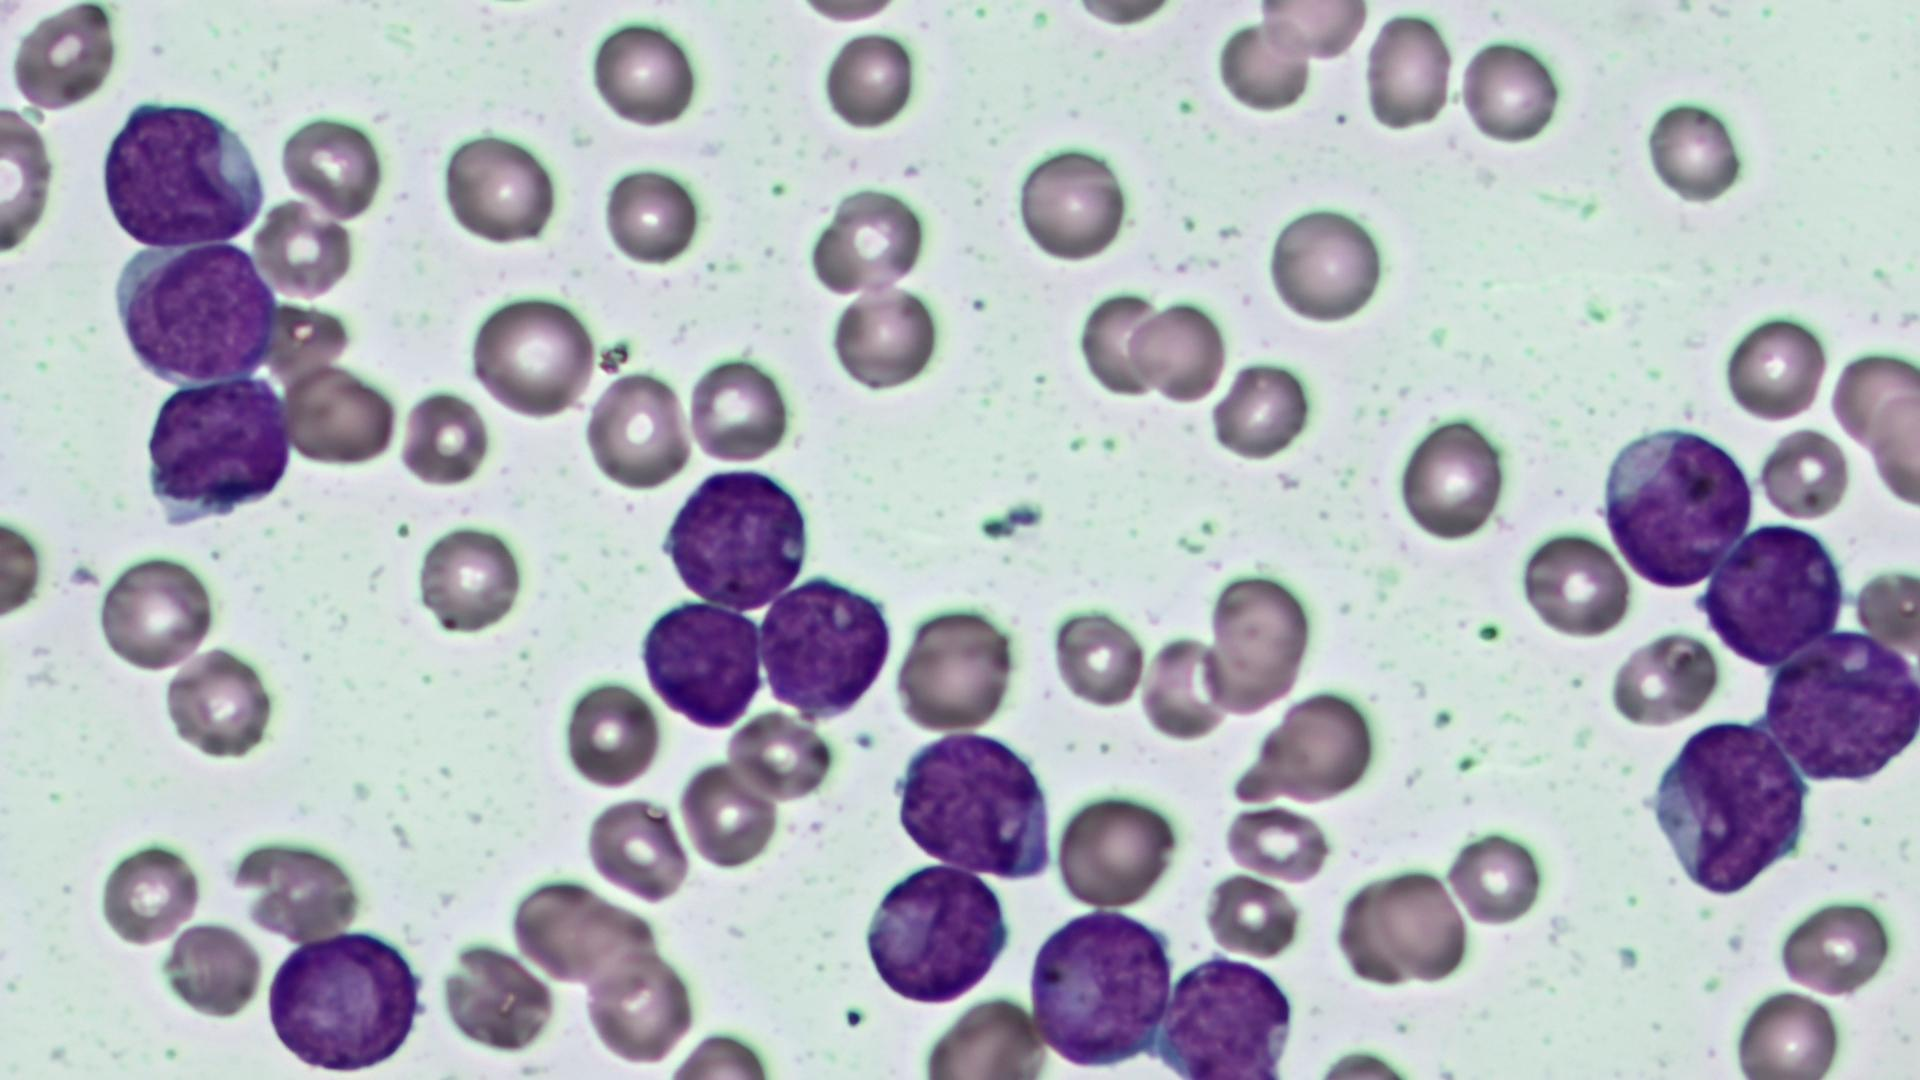Platelets: (992, 498, 1047, 533), (976, 510, 1019, 541)
RBC: (659, 465, 818, 612), (1700, 517, 1846, 673), (465, 289, 599, 425), (506, 880, 666, 992), (637, 597, 765, 735), (891, 604, 1022, 735), (94, 549, 220, 674), (1203, 568, 1313, 709), (1394, 411, 1510, 546), (1011, 140, 1131, 268), (1054, 790, 1180, 910), (1265, 202, 1385, 328), (436, 935, 558, 1058), (438, 127, 559, 248), (1258, 687, 1378, 804), (808, 182, 928, 299), (582, 369, 692, 495), (7, 0, 123, 117), (585, 15, 700, 133), (160, 644, 276, 760), (582, 951, 696, 1065), (1774, 891, 1899, 996), (1515, 527, 1629, 642), (1640, 94, 1753, 210), (413, 521, 524, 638), (1456, 32, 1564, 152), (282, 360, 400, 469), (1367, 864, 1472, 986), (580, 790, 692, 903), (828, 281, 940, 394), (277, 109, 386, 225), (558, 673, 662, 794), (1720, 310, 1828, 425), (1364, 8, 1456, 138), (687, 352, 790, 468), (916, 992, 1051, 1080), (156, 916, 266, 1021), (1127, 295, 1230, 407), (676, 758, 778, 872), (1208, 357, 1316, 462), (818, 28, 922, 136), (1726, 982, 1846, 1075), (1607, 626, 1716, 728), (724, 707, 836, 804), (1138, 630, 1234, 744), (1073, 287, 1167, 402), (1215, 13, 1316, 117), (600, 164, 702, 268), (1052, 603, 1146, 712), (1444, 829, 1548, 926), (397, 386, 491, 491), (1200, 870, 1305, 963), (1756, 423, 1850, 522), (0, 104, 55, 258), (1255, 0, 1369, 65), (1869, 382, 1920, 513), (1062, 0, 1179, 32), (790, 0, 903, 26)
WBC: (1646, 716, 1815, 898), (98, 91, 272, 251), (1596, 421, 1758, 591), (107, 240, 286, 392), (260, 928, 433, 1075), (1025, 905, 1178, 1069), (140, 373, 298, 531), (890, 731, 1055, 880), (1762, 632, 1920, 786), (657, 459, 814, 612), (860, 861, 1015, 1010), (1701, 520, 1845, 669), (754, 570, 891, 723), (1150, 952, 1302, 1077), (638, 592, 767, 731)
